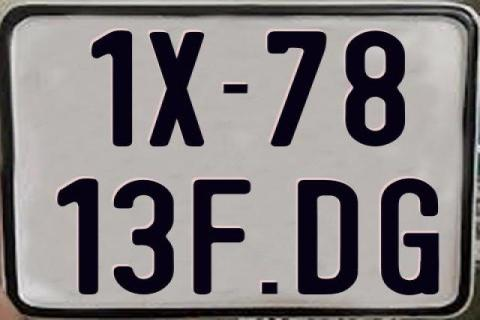0: (344, 29, 406, 149), (267, 30, 330, 148), (113, 179, 178, 293), (90, 31, 136, 149), (55, 178, 98, 298)
D: (295, 180, 357, 299)
F: (194, 177, 256, 293)
G: (380, 176, 440, 294)
X: (147, 32, 202, 146)
